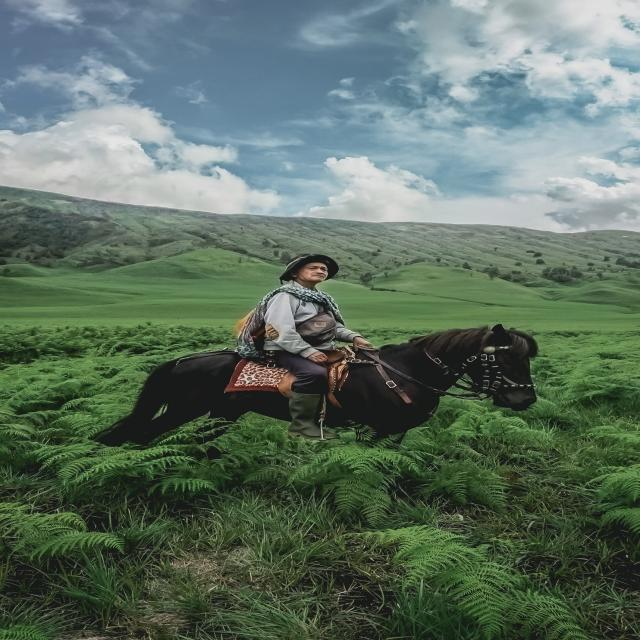adult: (258, 258, 370, 438)
